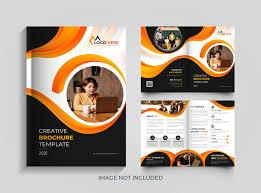paper: (26, 26, 126, 167), (140, 26, 235, 167)
